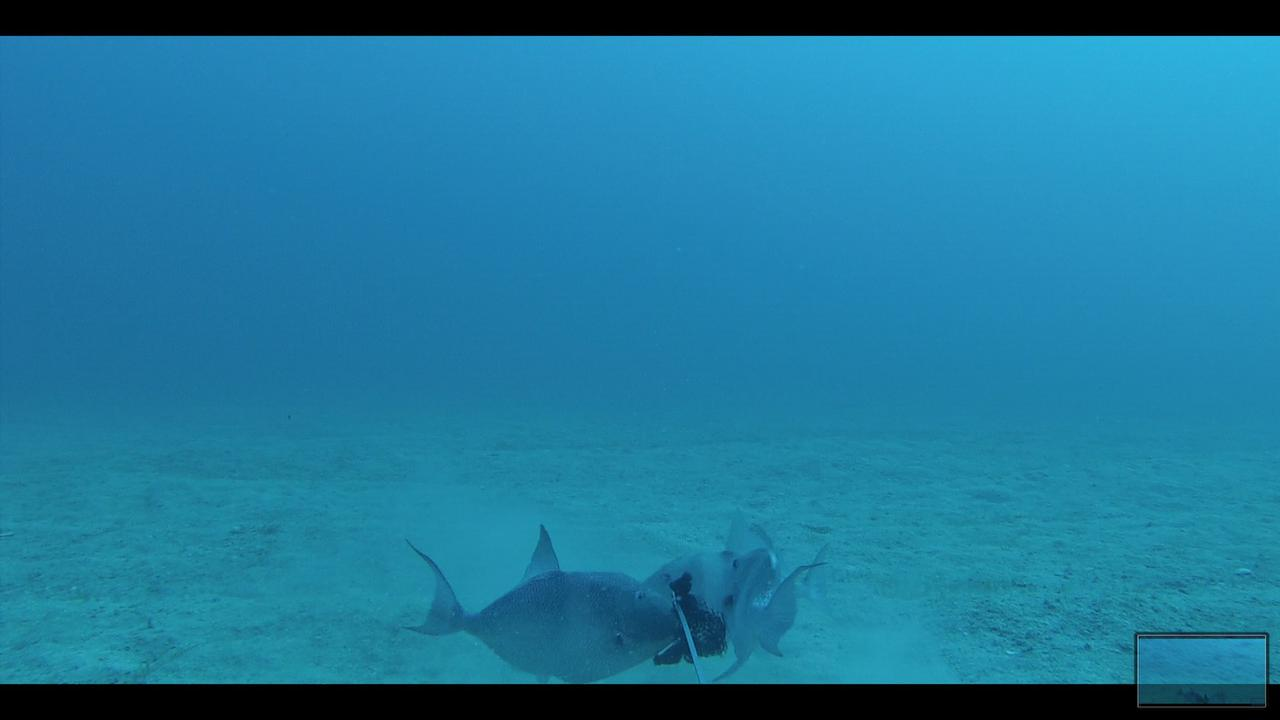balistes: (396, 521, 680, 680), (642, 504, 850, 634), (714, 543, 823, 680)
